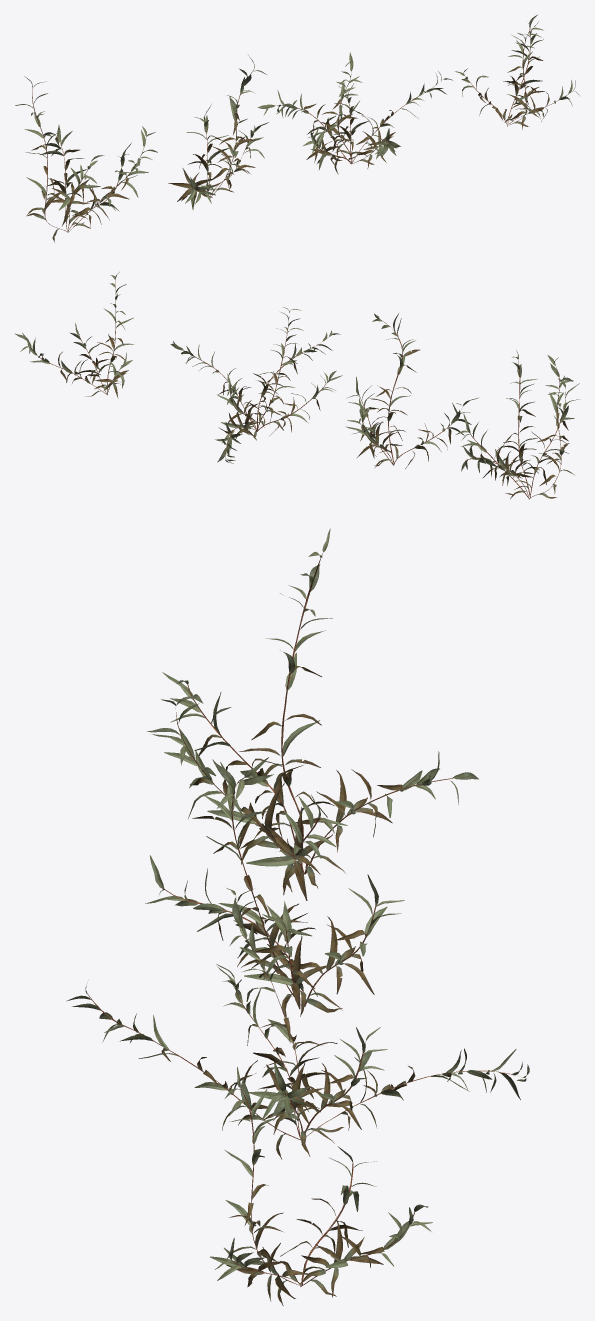
The model's file is shrub_02.glb.
The picture shows the model from 3 angles, top to bottom: view 1: azimuth 30°, elevation 25°; view 2: azimuth 150°, elevation 25°; view 3: azimuth 270°, elevation 25°; orthographic projection. The views are drawn at different scales.
Parts seen in each view (by area): view 1: shrub_02_c, shrub_02_a, shrub_02_b, shrub_02_d; view 2: shrub_02_a, shrub_02_c, shrub_02_b, shrub_02_d; view 3: shrub_02_a, shrub_02_c, shrub_02_b, shrub_02_d.
Part boxes in pixels (box(x1,y1,x2,y2)): shrub_02_c: box(257, 52, 452, 174); shrub_02_a: box(15, 76, 157, 242); shrub_02_b: box(168, 55, 268, 209); shrub_02_d: box(455, 14, 580, 129); shrub_02_a: box(455, 350, 579, 499); shrub_02_c: box(170, 307, 342, 463); shrub_02_b: box(345, 313, 478, 468); shrub_02_d: box(14, 272, 134, 398); shrub_02_a: box(146, 528, 478, 900); shrub_02_c: box(66, 888, 529, 1159); shrub_02_b: box(145, 757, 404, 1018); shrub_02_d: box(210, 1066, 432, 1305).
Size of the model in its own units: 6.05 by 1.7 by 2.29.
Materials: 1 (1 with a texture image).
